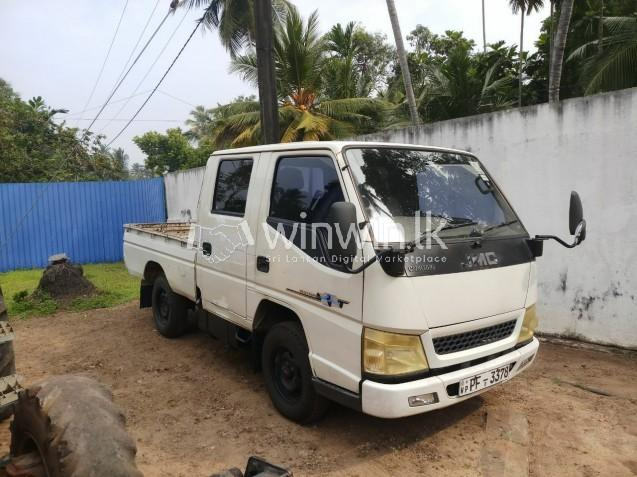truck: (121, 139, 587, 428)
